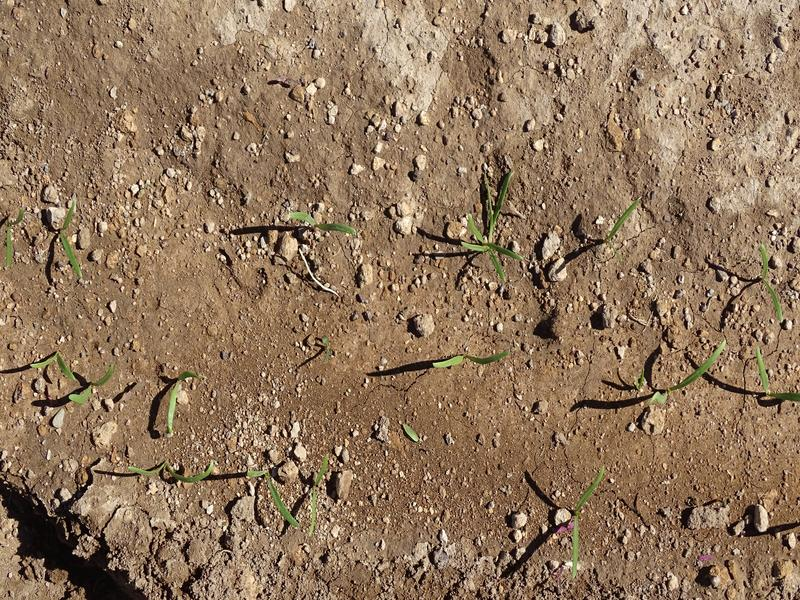Espinaca: (466, 175, 526, 282), (650, 343, 731, 406), (564, 468, 608, 573), (247, 463, 305, 530), (754, 243, 787, 327), (752, 350, 800, 407), (286, 208, 363, 239), (305, 453, 335, 531), (433, 349, 511, 373), (72, 367, 114, 407), (33, 349, 72, 375)
